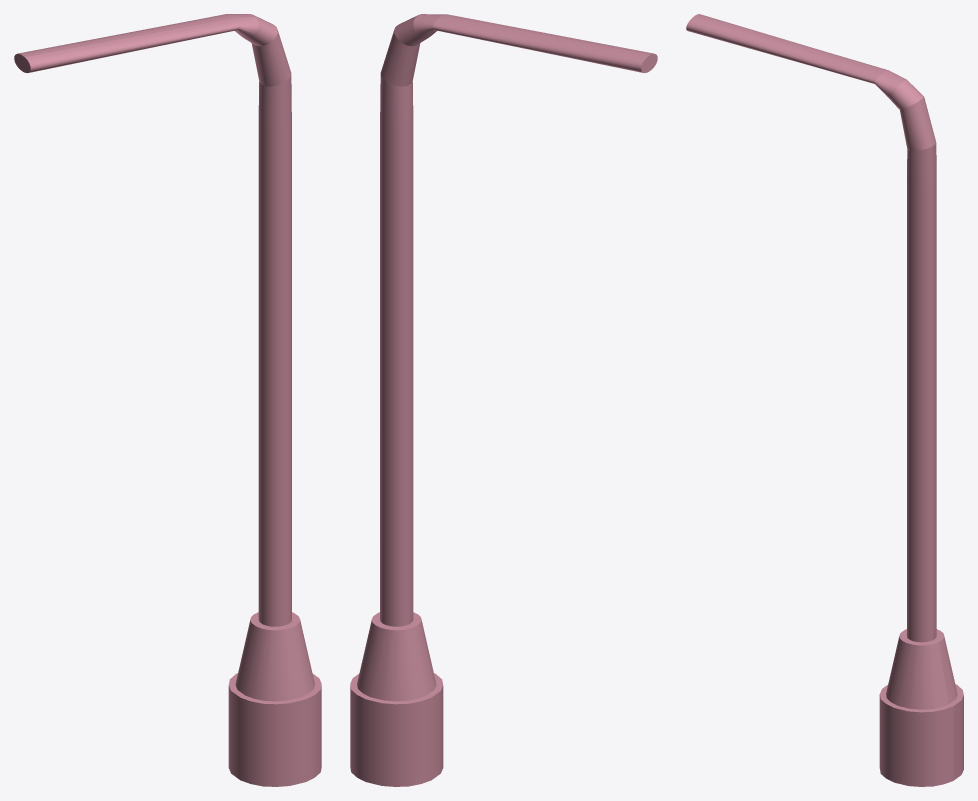
3 renders of one model, left to right at view 1: azimuth 30°, elevation 25°; view 2: azimuth 150°, elevation 25°; view 3: azimuth 330°, elevation 25°, orthographic. The views are drawn at different scales.
Visible parts, largest first — view 1: split_parent_0; view 2: split_parent_0; view 3: split_parent_0.
Boxes of the visible parts, x1,y1,x2,y2 form: split_parent_0: (14, 14, 321, 786); split_parent_0: (350, 14, 657, 786); split_parent_0: (686, 14, 963, 786).
Bounding box in the file's own units: 0.3969 × 1 × 0.1071.
